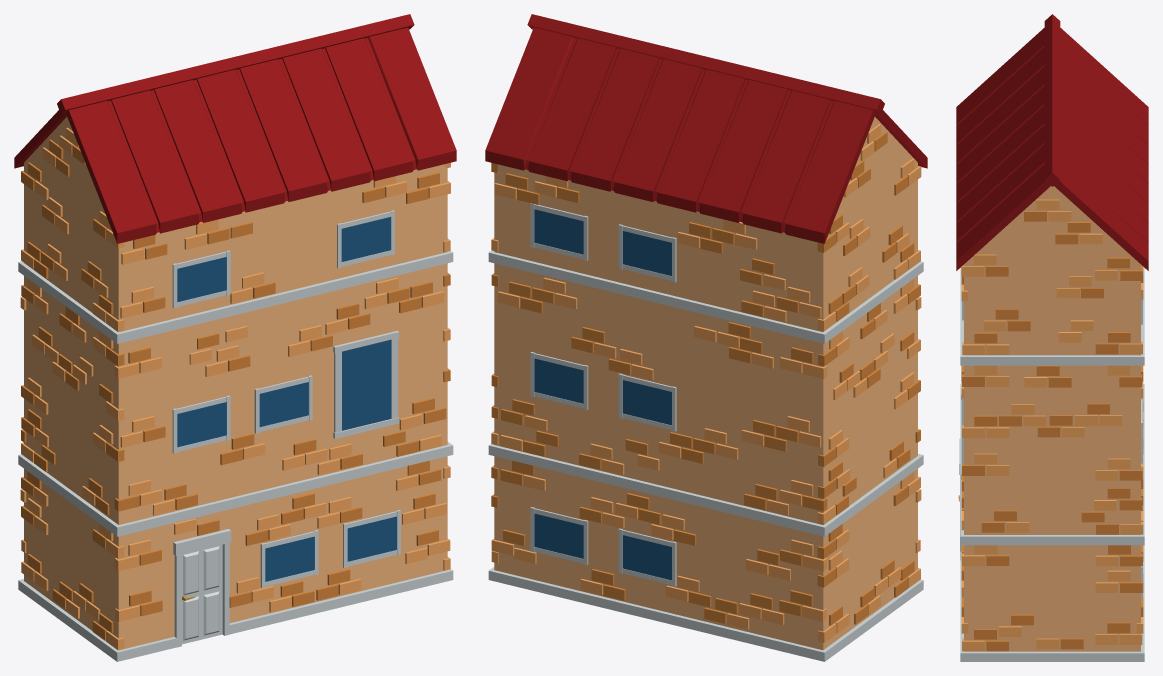
File: SM_House_18.FBX
3 renders of one model, left to right at view 1: azimuth 30°, elevation 25°; view 2: azimuth 150°, elevation 25°; view 3: azimuth 270°, elevation 25°, orthographic. The views are drawn at different scales.
Visible parts, largest first — view 1: SM_House_18; view 2: SM_House_18; view 3: SM_House_18.
Part boxes in pixels (<box>): SM_House_18: <box>14,14,456,661</box>; SM_House_18: <box>485,14,927,661</box>; SM_House_18: <box>956,14,1148,661</box>.
Size of what is drawn, in the model's own units: 849 by 434 by 1228.
